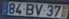3: (45, 4, 53, 16)
4: (15, 2, 22, 15)
7: (53, 5, 61, 17)
8: (8, 2, 15, 14)
B: (24, 3, 34, 15)
V: (34, 3, 44, 16)
